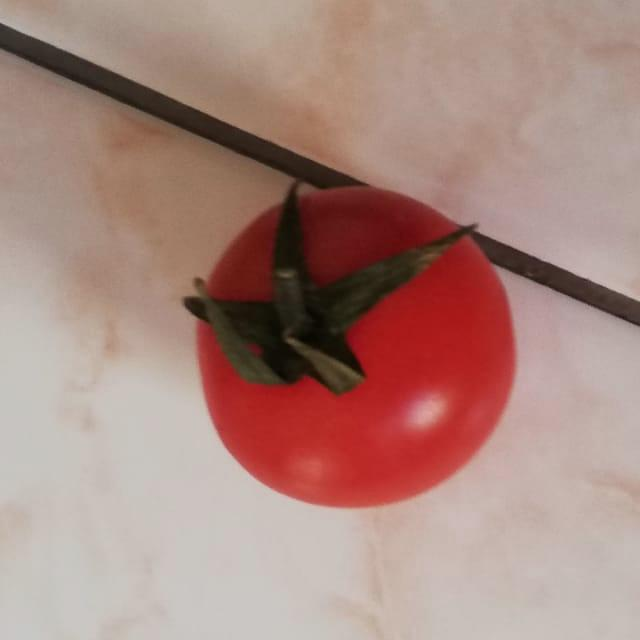tomato: (174, 157, 526, 514)
